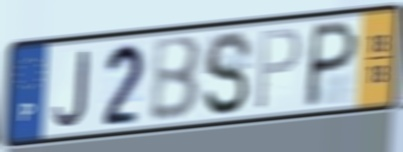2: (99, 37, 148, 132)
B: (149, 32, 204, 124)
J: (51, 48, 90, 129)
P: (301, 17, 361, 110), (254, 25, 304, 114)
S: (201, 28, 255, 119)
